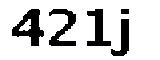1: (82, 7, 114, 49)
2: (46, 6, 80, 49)
4: (9, 7, 44, 48)
j: (113, 8, 138, 59)
